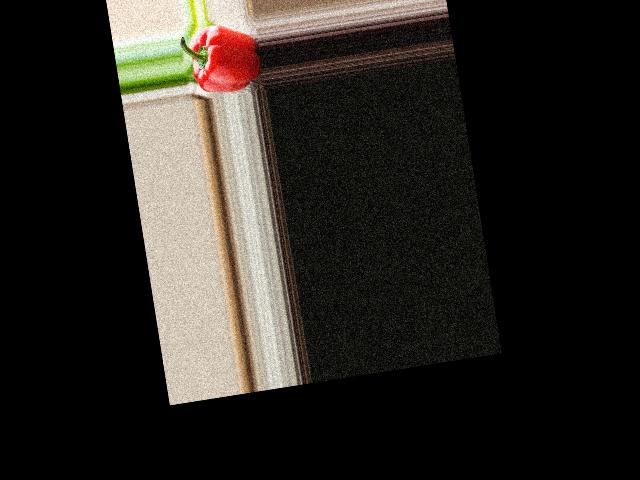bell_pepper: (179, 17, 266, 96)
